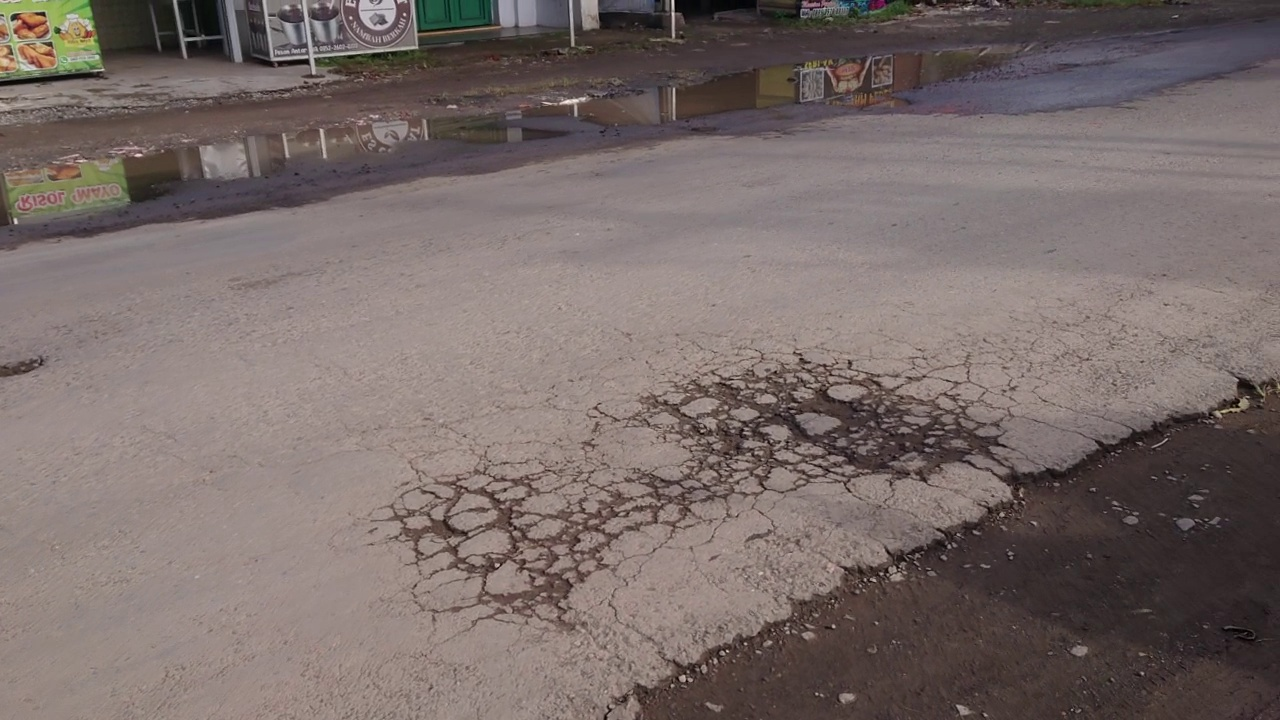Retak: (406, 361, 974, 628), (994, 298, 1176, 420)
